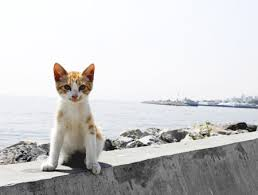cat: (40, 57, 111, 182)
